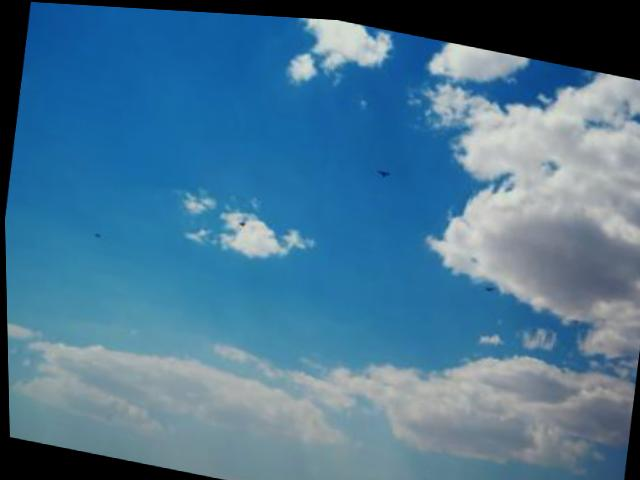uav: (376, 163, 391, 175), (482, 278, 495, 287)
